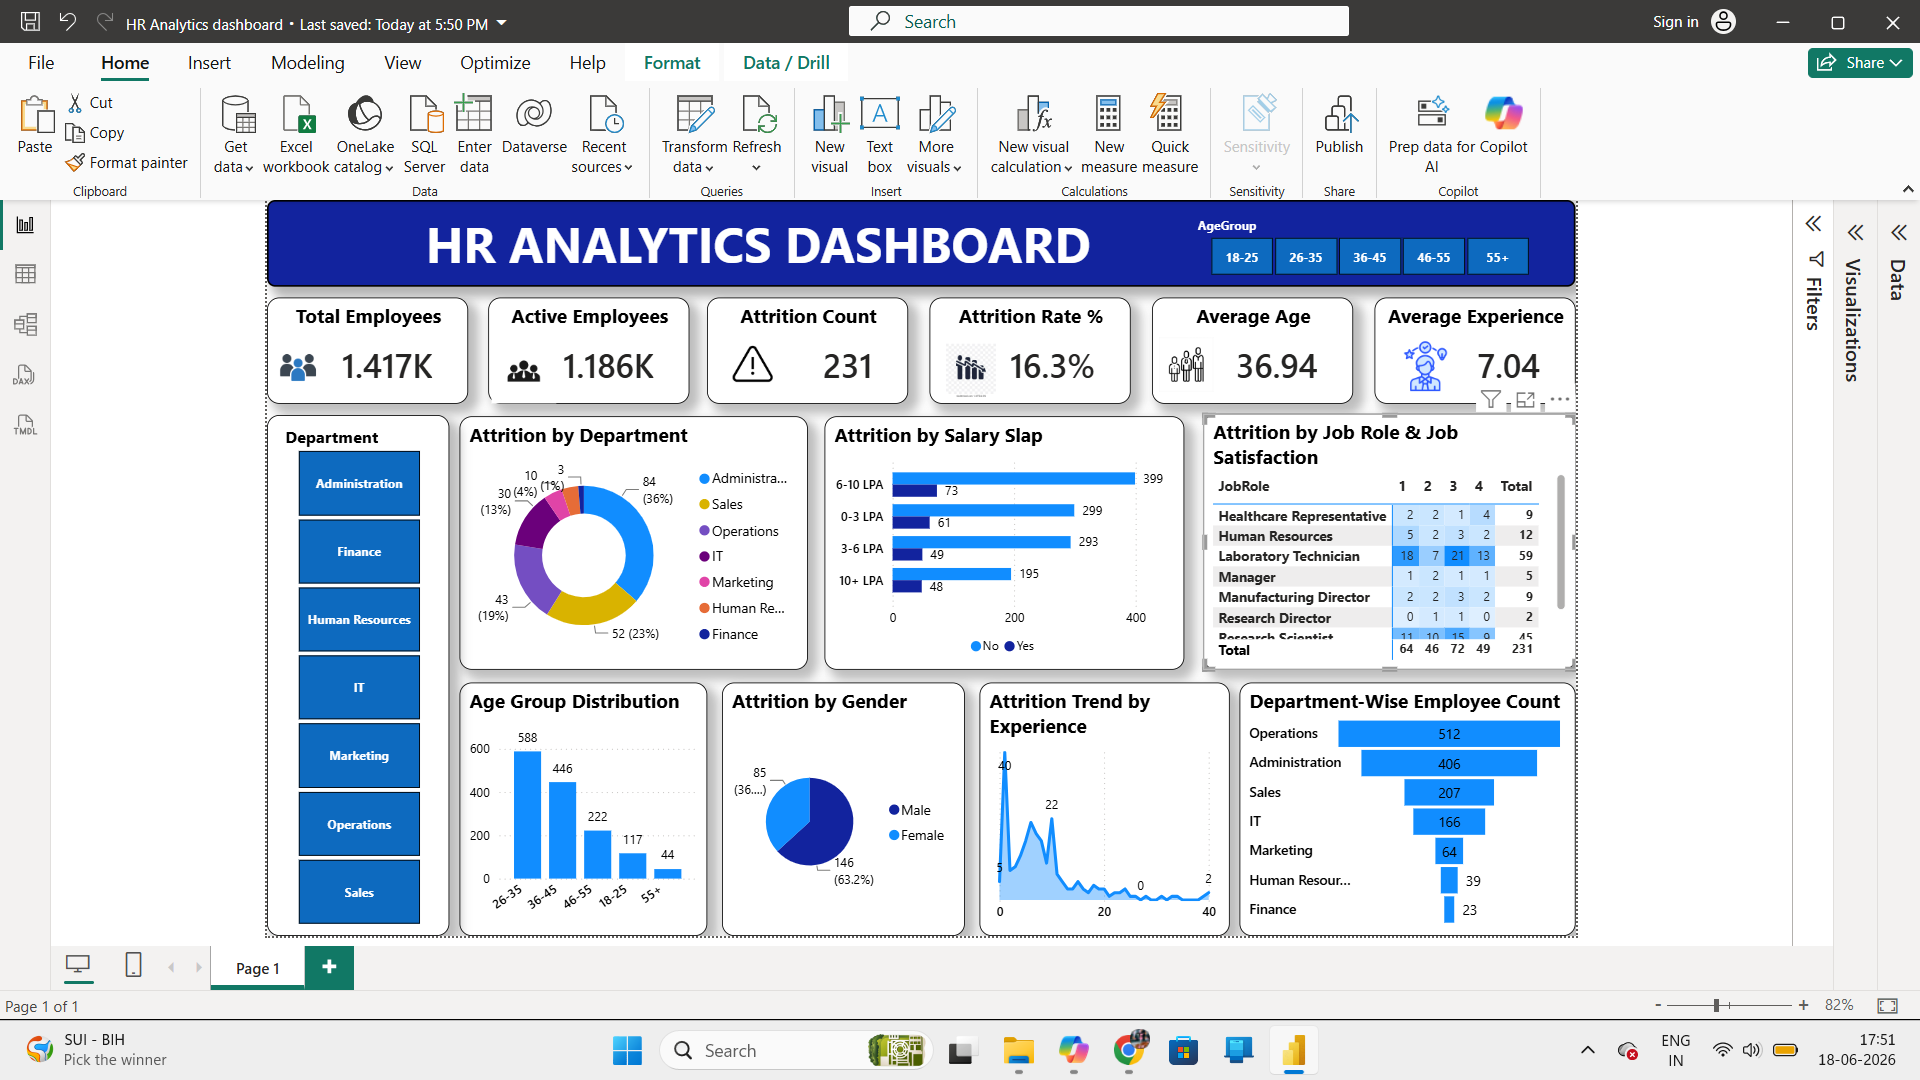

Layout of this report page (visuals, bound fields, positions):
{"tool":"powerbi","page":{"name":"Page 1","canvas":[1280,720],"ordinal":0},"visuals":[{"type":"textbox","box":[0,0,1280.3,85.1],"z":0},{"type":"cardVisual","title":"Total Employees","fields":{"Data":["CountNonNull(HR_Analytics-4.EmpID)"]},"box":[0,95.4,196.9,103.9],"z":1000},{"type":"cardVisual","title":"Active Employees","fields":{"Data":["CountNonNull(HR_Analytics-4.EmployeeCount)"]},"box":[216.4,95.4,196.9,103.9],"z":2000},{"type":"cardVisual","title":"Average Age","fields":{"Data":["Avg(HR_Analytics-4.Age)"]},"box":[865.8,95.4,196.9,103.9],"z":3000},{"type":"cardVisual","title":"Attrition Count","fields":{"Data":["Sum(HR_Analytics-4.AttritionCount)"]},"box":[430.4,95.4,196.9,103.9],"z":4000},{"type":"cardVisual","title":"Attrition Rate %","fields":{"Data":["HR_Analytics-4.Attrition Rate %"]},"box":[648.1,95.4,196.9,103.9],"z":5000},{"type":"cardVisual","title":"Average Experience","fields":{"Data":["Avg(HR_Analytics-4.YearsatCompany)"]},"box":[1083.4,95.4,196.9,103.9],"z":6000},{"type":"image","box":[216.4,135.7,69.7,63.6],"z":7000},{"type":"image","box":[445.1,140.6,59.9,39.1],"z":8000},{"type":"image","box":[865.8,134.5,67.3,52.6],"z":9000},{"type":"image","box":[1101.8,138.2,63.6,48.9],"z":10000},{"type":"image","box":[657.9,140.6,62.4,52.6],"z":11000},{"type":"image","box":[0,140.6,61.1,46.5],"z":12000},{"type":"donutChart","title":"Attrition by Department","fields":{"Category":["HR_Analytics-4.Department"],"Y":["Sum(HR_Analytics-4.AttritionCount)"]},"box":[188.3,211.6,341.2,248.2],"z":13000},{"type":"clusteredBarChart","title":"Attrition by Salary Slap","fields":{"Y":["CountNonNull(HR_Analytics-4.EmpID)"],"Category":["HR_Analytics-4.SalarySlab"],"Series":["HR_Analytics-4.Attrition"]},"box":[545.4,211.6,352.2,248.2],"z":14000},{"type":"pivotTable","title":"Attrition by Job Role & Job Satisfaction","fields":{"Rows":["HR_Analytics-4.JobRole"],"Values":["Sum(HR_Analytics-4.AttritionCount)"],"Columns":["HR_Analytics-4.JobSatisfaction"]},"box":[915.9,209.1,364.4,250.7],"z":15000},{"type":"columnChart","title":"Age Group Distribution","fields":{"Category":["HR_Analytics-4.AgeGroup"],"Y":["Sum(HR_Analytics-4.EmployeeCount)"]},"box":[188.3,472,242.1,248.2],"z":16000},{"type":"pieChart","title":"Attrition by Gender","fields":{"Category":["HR_Analytics-4.Gender"],"Y":["Sum(HR_Analytics-4.AttritionCount)"]},"box":[445.1,472,237.2,248.2],"z":17000},{"type":"areaChart","title":"Attrition Trend by Experience","fields":{"Category":["HR_Analytics-4.TotalExperience(Years)"],"Y2":["Sum(HR_Analytics-4.AttritionCount)"]},"box":[697,472,244.6,248.2],"z":18000},{"type":"funnel","title":"Department-Wise Employee Count ","fields":{"Y":["CountNonNull(HR_Analytics-4.EmpID)"],"Category":["HR_Analytics-4.Department"]},"box":[951.4,472,328.9,248.2],"z":19000},{"type":"slicer","fields":{"Values":["HR_Analytics-4.Department"]},"box":[0,210.3,178.5,509.9],"z":20000},{"type":"slicer","fields":{"Values":["HR_Analytics-4.AgeGroup"]},"box":[898,12,361,68],"z":21000}]}

Visuals, with their boxes on the page's 1280x720 design canvas (x1, y1, x2, y2). These are canvas units, not pixel positions in the 1920x1080 screenshot, which may show the page scaled, cropped or inside an application window:
textbox: detection(0, 0, 1280, 85)
"Total Employees" cardVisual: detection(0, 95, 197, 199)
"Active Employees" cardVisual: detection(216, 95, 413, 199)
"Average Age" cardVisual: detection(866, 95, 1063, 199)
"Attrition Count" cardVisual: detection(430, 95, 627, 199)
"Attrition Rate %" cardVisual: detection(648, 95, 845, 199)
"Average Experience" cardVisual: detection(1083, 95, 1280, 199)
image: detection(216, 136, 286, 199)
image: detection(445, 141, 505, 180)
image: detection(866, 134, 933, 187)
image: detection(1102, 138, 1165, 187)
image: detection(658, 141, 720, 193)
image: detection(0, 141, 61, 187)
"Attrition by Department" donutChart: detection(188, 212, 530, 460)
"Attrition by Salary Slap" clusteredBarChart: detection(545, 212, 898, 460)
"Attrition by Job Role & Job Satisfaction" pivotTable: detection(916, 209, 1280, 460)
"Age Group Distribution" columnChart: detection(188, 472, 430, 720)
"Attrition by Gender" pieChart: detection(445, 472, 682, 720)
"Attrition Trend by Experience" areaChart: detection(697, 472, 942, 720)
"Department-Wise Employee Count " funnel: detection(951, 472, 1280, 720)
slicer - HR_Analytics-4.Department: detection(0, 210, 178, 720)
slicer - HR_Analytics-4.AgeGroup: detection(898, 12, 1259, 80)
